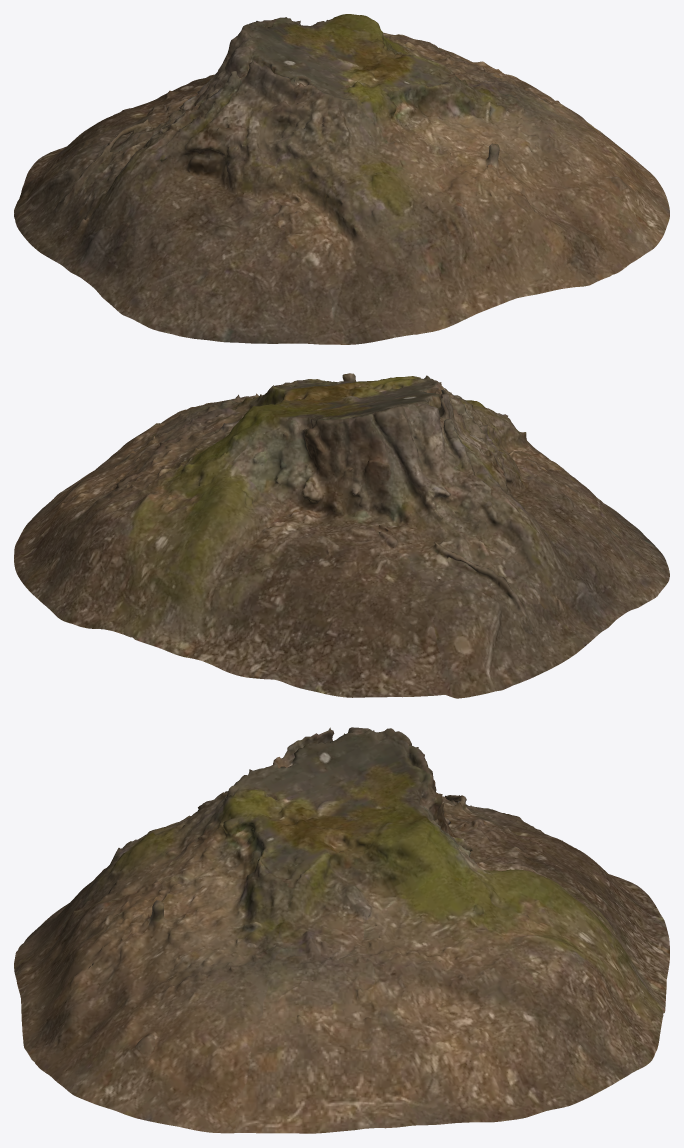
The model's file is tree_stump_02.glb.
3 views of the same model, one above another, from view 1: azimuth 30°, elevation 25°; view 2: azimuth 150°, elevation 25°; view 3: azimuth 270°, elevation 25° (orthographic). The views are drawn at different scales.
Visible parts, largest first — view 1: tree_stump_02; view 2: tree_stump_02; view 3: tree_stump_02.
Part boxes in pixels (x1,y1,x2,y2): tree_stump_02: [14, 14, 669, 344]; tree_stump_02: [14, 373, 669, 698]; tree_stump_02: [14, 727, 669, 1133].
Size of the model in its own units: 1.52 by 0.522 by 1.39.
Materials: 1 (1 with a texture image).
